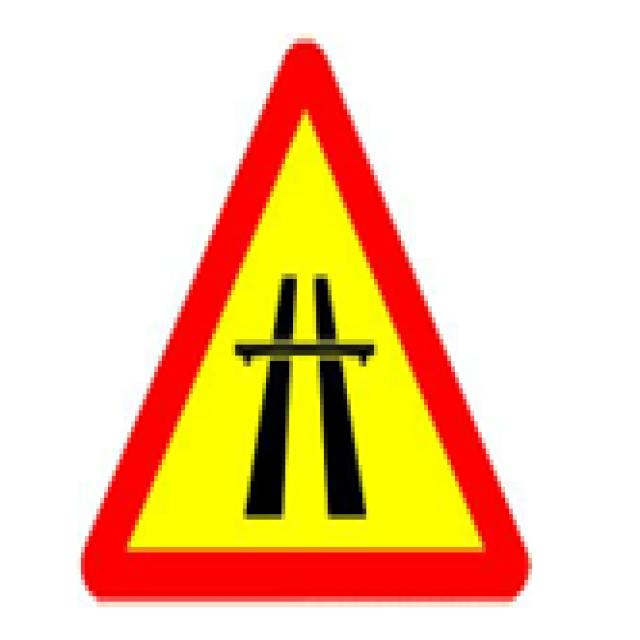Bien bao duong cao toc phia truoc: (45, 8, 581, 618)
